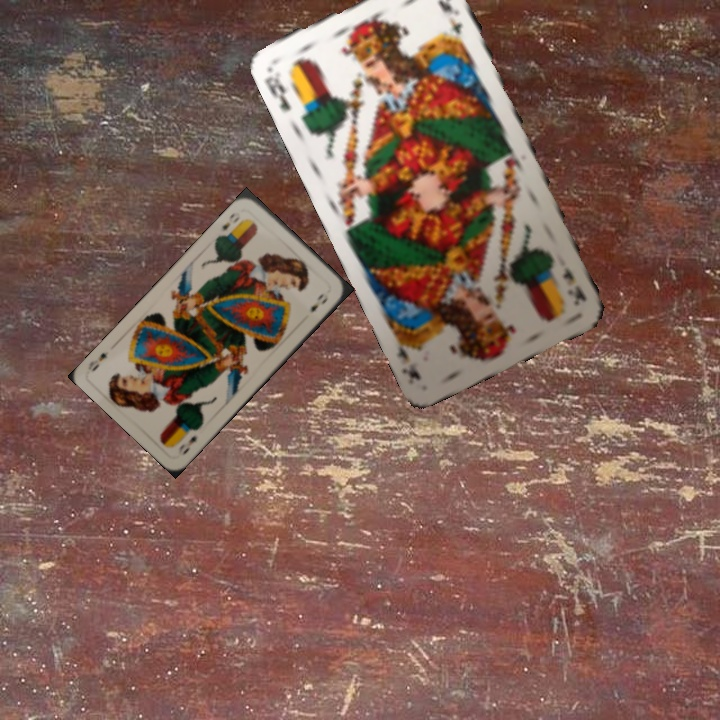EK: (262, 68, 293, 114), (559, 263, 590, 307)
EO: (174, 431, 200, 458), (218, 209, 243, 234)
